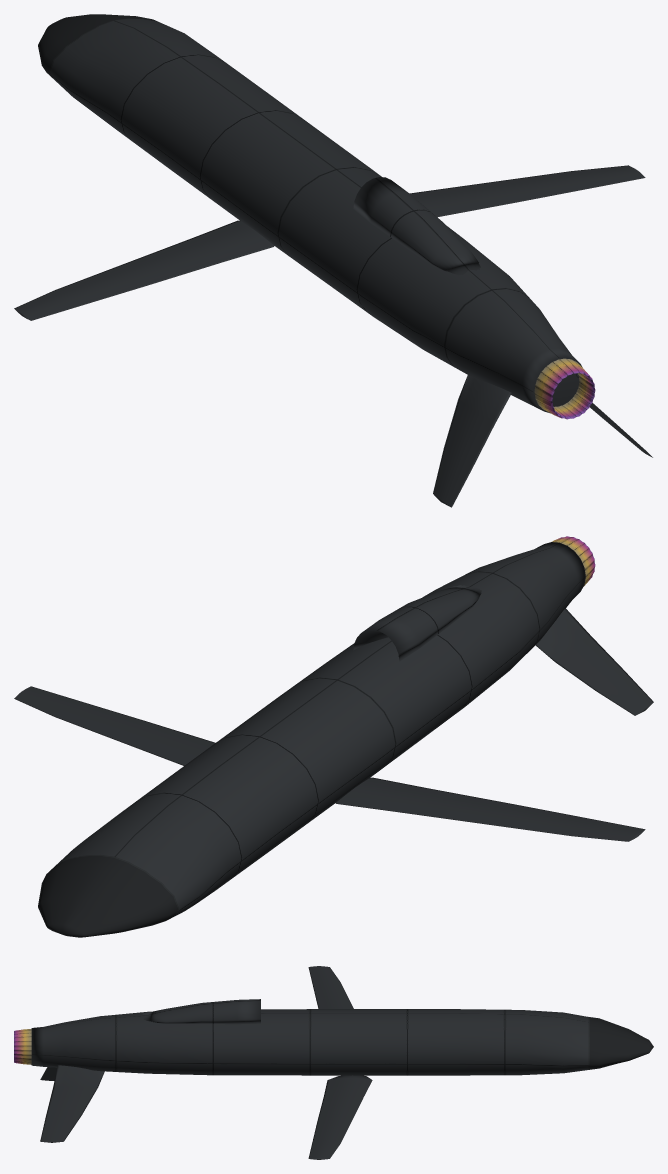
Rendered from CHAMP.fbx.
3 renders of one model, top to bottom at view 1: azimuth 30°, elevation 25°; view 2: azimuth 150°, elevation 25°; view 3: azimuth 270°, elevation 25°, orthographic. The views are drawn at different scales.
Parts seen in each view (by area): view 1: CHAMP_Fuselage, CHAMP_Wing_L, CHAMP_Wing_R, CHAMP_Fin_L, CHAMP_Engine; view 2: CHAMP_Fuselage, CHAMP_Wing_L, CHAMP_Wing_R, CHAMP_Fin_L, CHAMP_Engine; view 3: CHAMP_Fuselage, CHAMP_Wing_R, CHAMP_Fin_R, CHAMP_Wing_L, CHAMP_Engine.
Part boxes in pixels (bbox=[...]): CHAMP_Fuselage: bbox=[38, 14, 582, 413]; CHAMP_Wing_L: bbox=[14, 220, 274, 320]; CHAMP_Wing_R: bbox=[409, 165, 645, 217]; CHAMP_Fin_L: bbox=[433, 375, 511, 507]; CHAMP_Engine: bbox=[534, 358, 595, 419]; CHAMP_Fuselage: bbox=[38, 542, 585, 937]; CHAMP_Wing_L: bbox=[336, 777, 645, 841]; CHAMP_Wing_R: bbox=[14, 686, 215, 765]; CHAMP_Fin_L: bbox=[535, 608, 653, 715]; CHAMP_Engine: bbox=[552, 536, 595, 586]; CHAMP_Fuselage: bbox=[31, 999, 653, 1075]; CHAMP_Wing_R: bbox=[308, 1075, 372, 1159]; CHAMP_Fin_R: bbox=[40, 1065, 104, 1142]; CHAMP_Wing_L: bbox=[308, 966, 353, 1008]; CHAMP_Engine: bbox=[14, 1029, 31, 1064].
Size of the model in its own units: 3.76 by 1.03 by 5.39.
4 materials, 4 textured.
